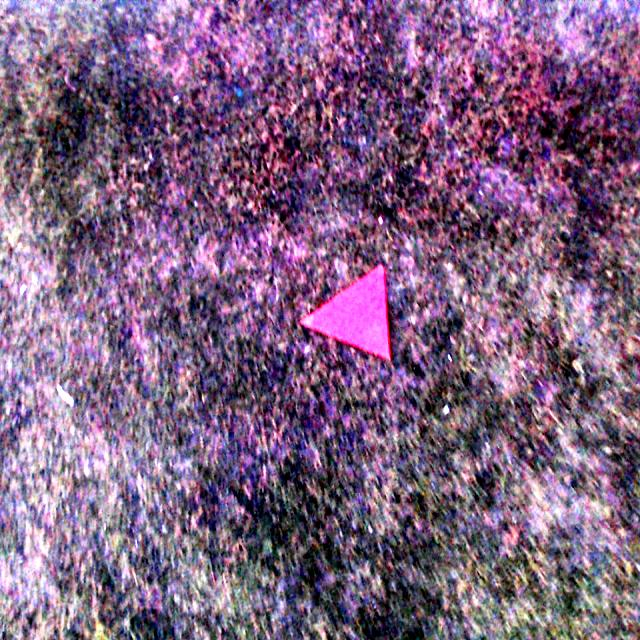red_triangle: (302, 263, 391, 363)
